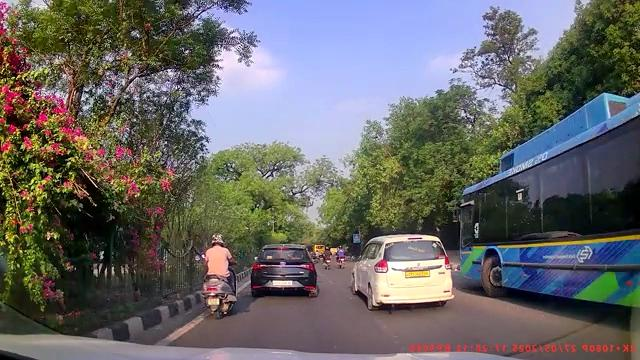motorcycle_with_helmet: (201, 231, 239, 320)
